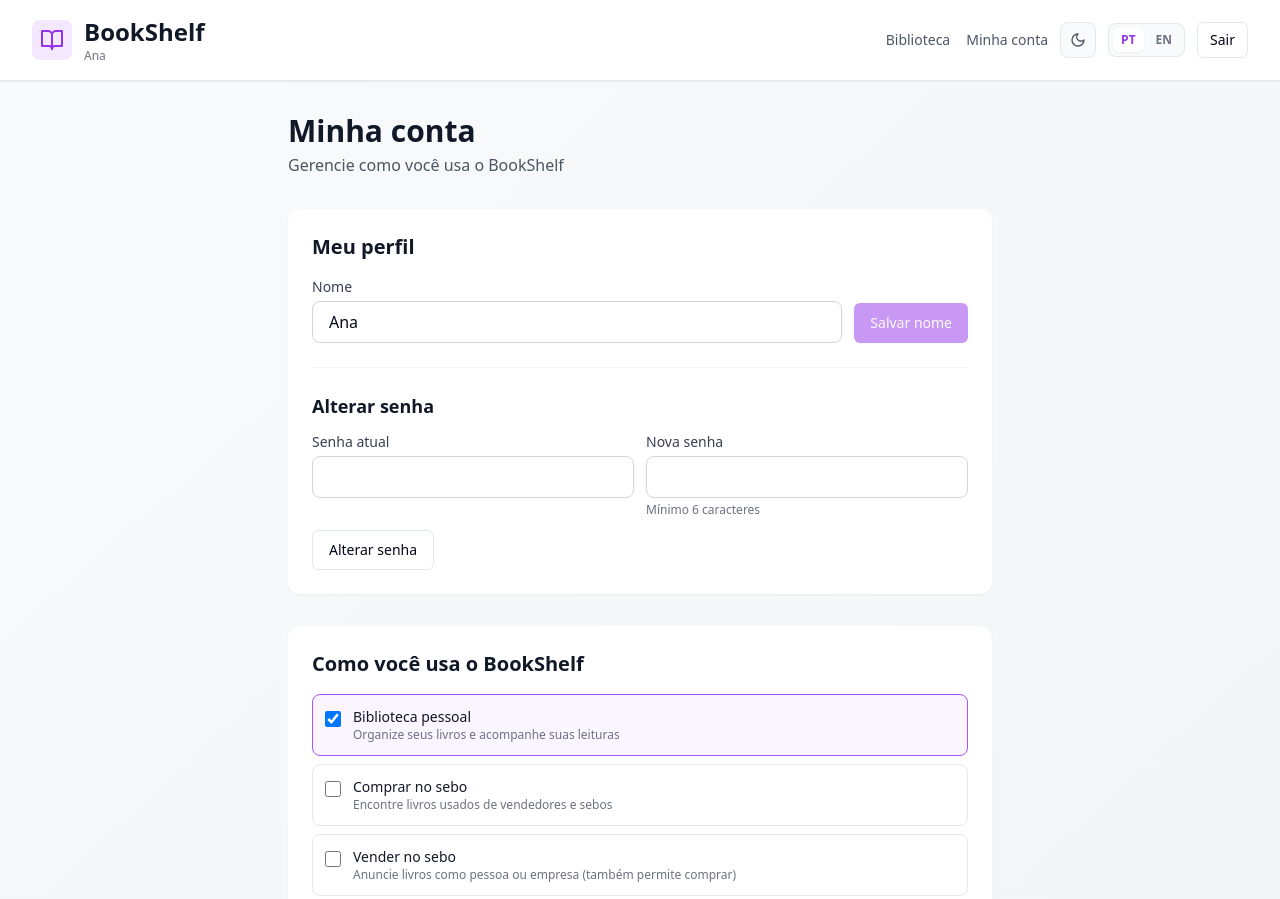
Test: AccountPage profile › shows the localised error for a wrong current password
In the password field with test id "profile-current-password": (473, 477) [312,456,634,498], type "guess"
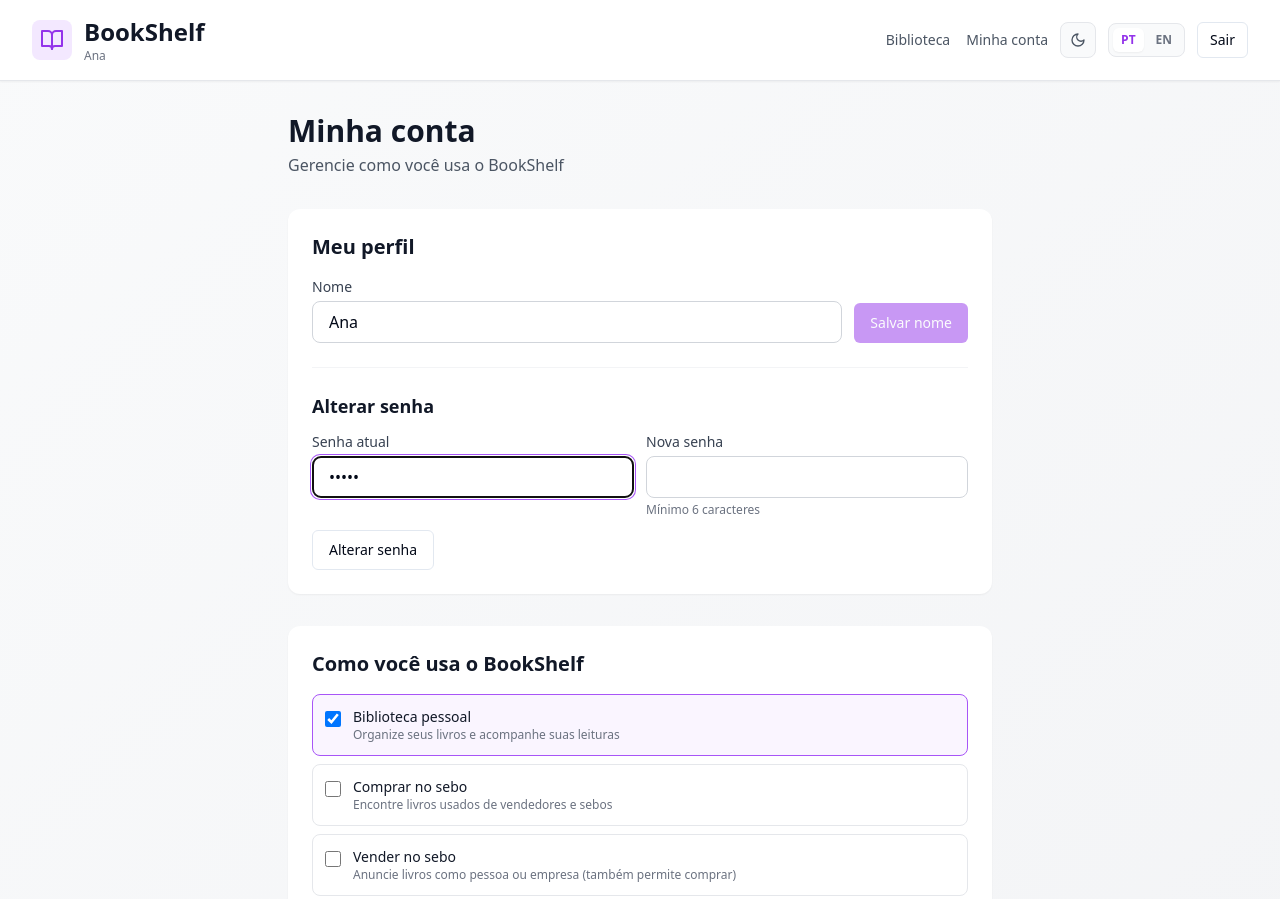
In the password field with test id "profile-new-password": (807, 477) [646,456,968,498], type "new-secret"
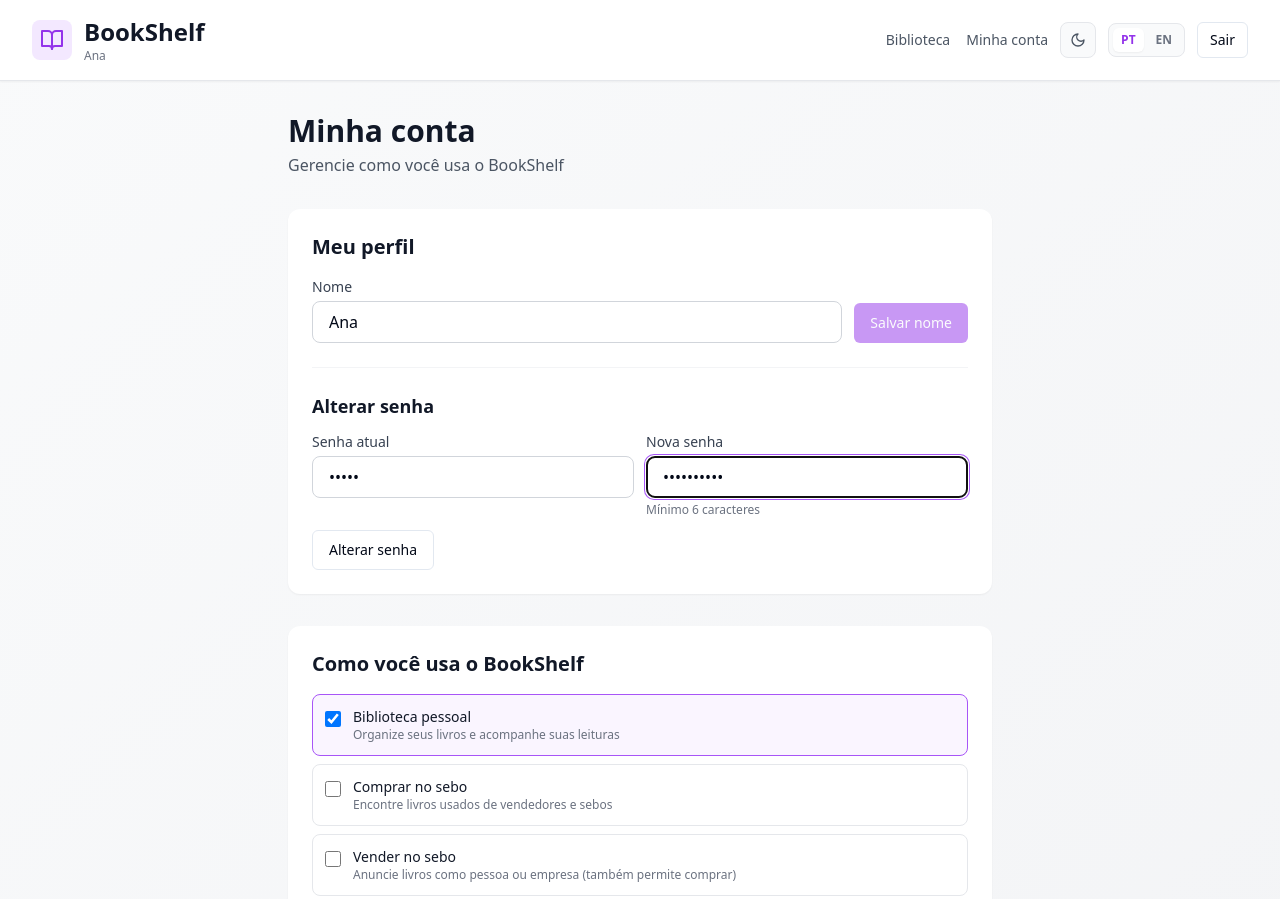
Click the button with test id "profile-password-save": (373, 550) [312,530,434,570]
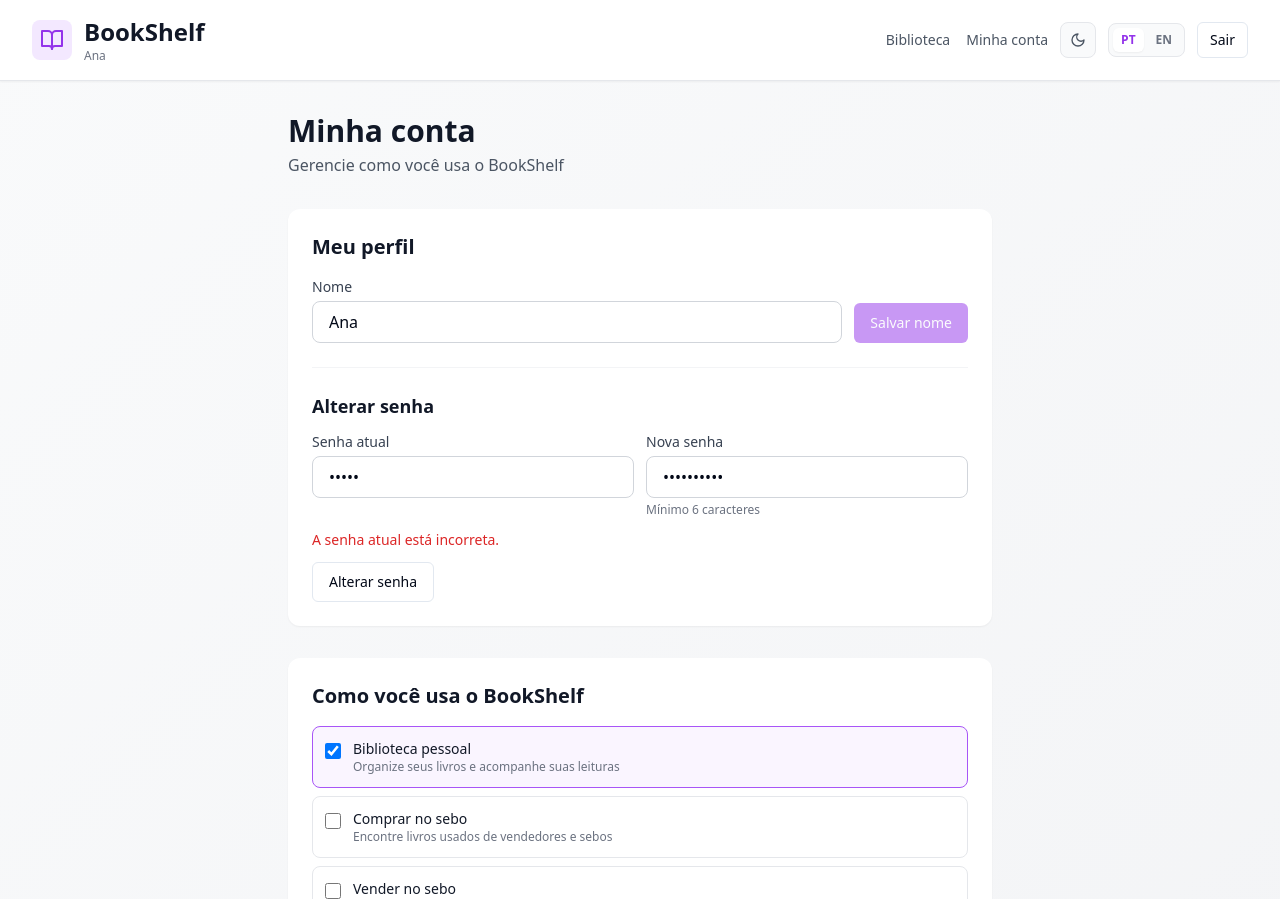
Result: the message with test id "profile-password-error" reads "A senha atual está incorreta." at [312,530,499,549]
